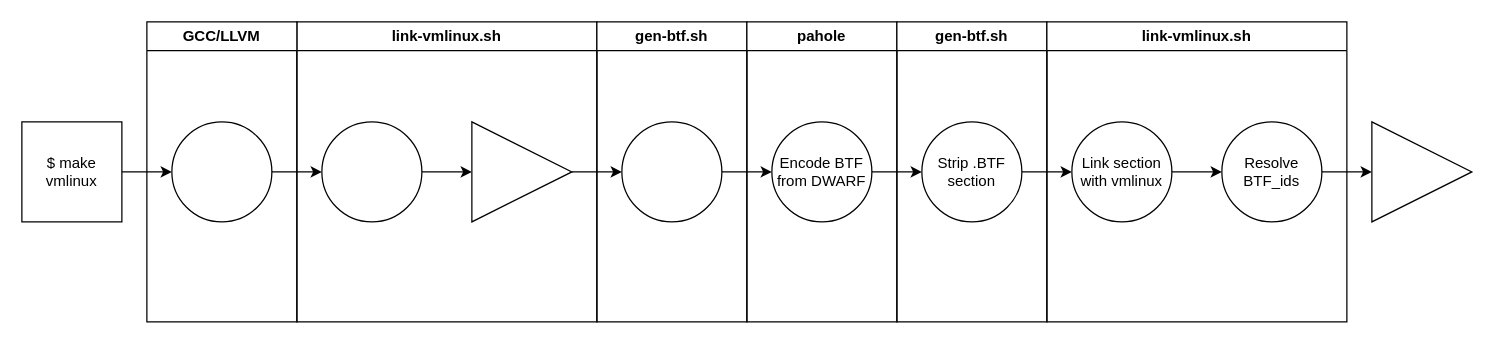
This 1494x344 diagram has some shape labels left out. The centre of each missing label's shape, as x and y in pixels:
".tmp_vmlinux1" goes at point (521, 171).
"Build vmlinux with DWARF" goes at point (221, 171).
"Initial link" goes at point (371, 171).
"Select mode" goes at point (671, 171).
"vmlinux" goes at point (1421, 171).
